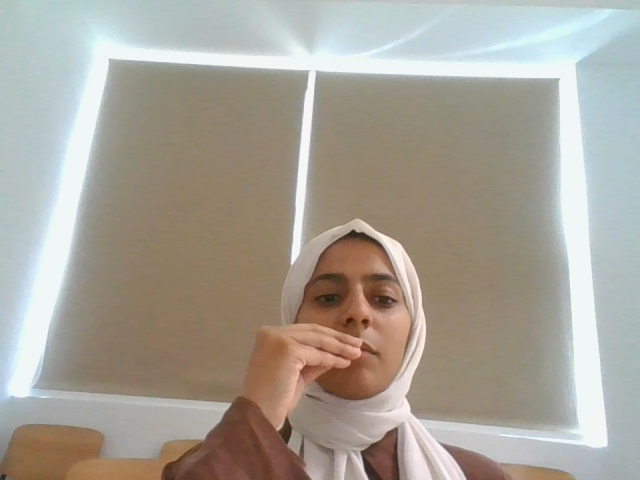eat: (246, 320, 366, 412)
